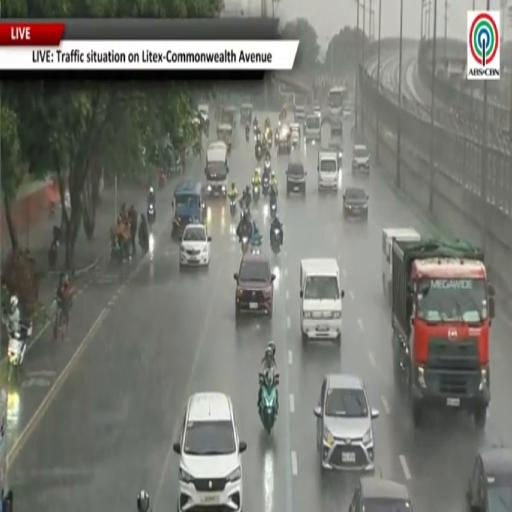bus: (328, 87, 347, 118)
car: (173, 393, 247, 511), (314, 374, 378, 471), (466, 447, 511, 511), (234, 253, 275, 317), (349, 476, 413, 511), (180, 223, 211, 267), (343, 186, 369, 220), (286, 157, 306, 197), (352, 144, 370, 174), (277, 124, 291, 154), (328, 140, 342, 169), (289, 123, 300, 147), (330, 117, 342, 137), (295, 105, 305, 123), (313, 102, 321, 117)
jeepney: (217, 123, 232, 152), (240, 104, 253, 124)
motorcycle: (8, 322, 32, 382), (259, 374, 279, 435), (48, 226, 61, 270), (111, 237, 126, 263), (48, 238, 59, 270), (271, 228, 281, 254), (147, 203, 155, 228), (262, 173, 269, 197), (139, 237, 149, 253), (241, 236, 249, 254), (255, 144, 263, 161), (264, 155, 271, 174), (159, 170, 166, 189), (253, 185, 260, 204), (270, 196, 276, 218), (265, 130, 272, 148), (230, 199, 236, 217), (251, 244, 261, 254), (254, 126, 260, 139), (274, 130, 278, 147), (246, 127, 250, 142)
truck: (392, 239, 495, 429), (204, 141, 229, 197)
